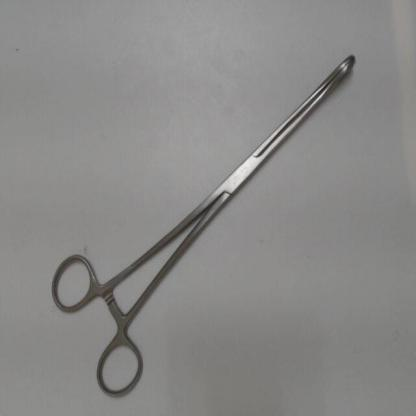Sponge Forceps: (45, 42, 359, 405)
